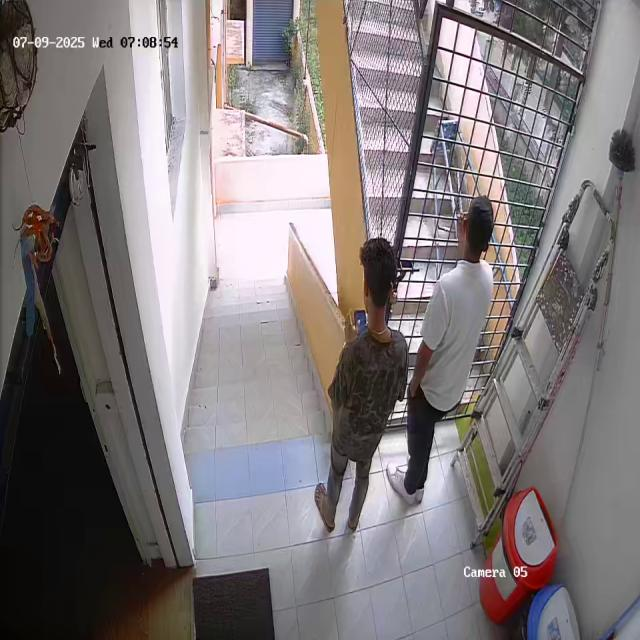person: (302, 239, 408, 542), (413, 193, 492, 526)
